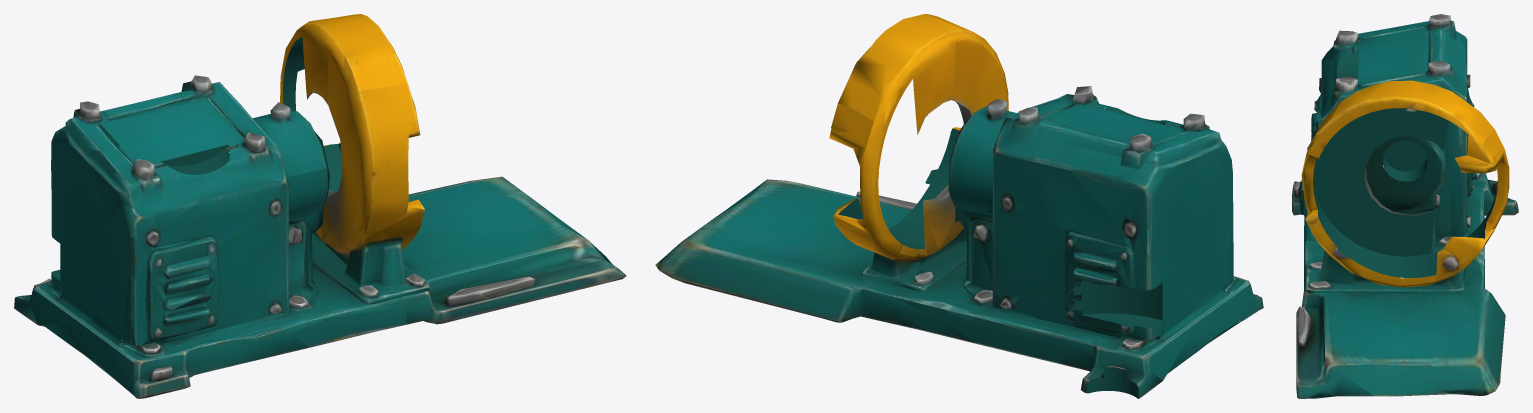
Rendered from grinder.glb.
3 views of the same model, side by side, from view 1: azimuth 30°, elevation 25°; view 2: azimuth 150°, elevation 25°; view 3: azimuth 270°, elevation 25° (orthographic). The views are drawn at different scales.
Parts seen in each view (by area): view 1: grinder-body; view 2: grinder-body; view 3: grinder-body.
Boxes of the visible parts, x1=… form: grinder-body: x1=14, y1=14, x2=626, y2=398; grinder-body: x1=655, y1=14, x2=1263, y2=398; grinder-body: x1=1292, y1=14, x2=1518, y2=398.
Size of the model in its own units: 2.6 by 1.3 by 1.2.
1 material, 1 textured.
